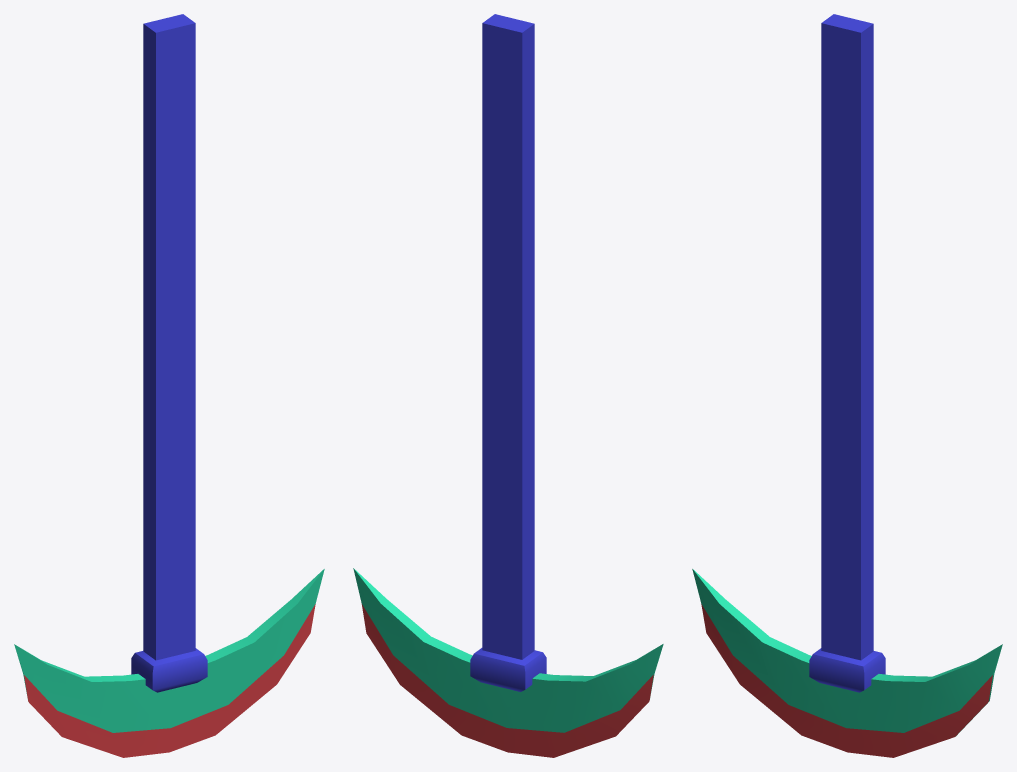
The model's file is keser2.fbx.
3 renders of one model, left to right at view 1: azimuth 30°, elevation 25°; view 2: azimuth 150°, elevation 25°; view 3: azimuth 330°, elevation 25°, orthographic.
Parts seen in each view (by area): view 1: Cube.009; view 2: Cube.009; view 3: Cube.009.
Part boxes in pixels (x1,y1,x2,y2): Cube.009: (14, 14, 324, 757); Cube.009: (353, 14, 663, 757); Cube.009: (692, 14, 1002, 757).
Size of the model in its own units: 545 by 1221 by 64.45.
